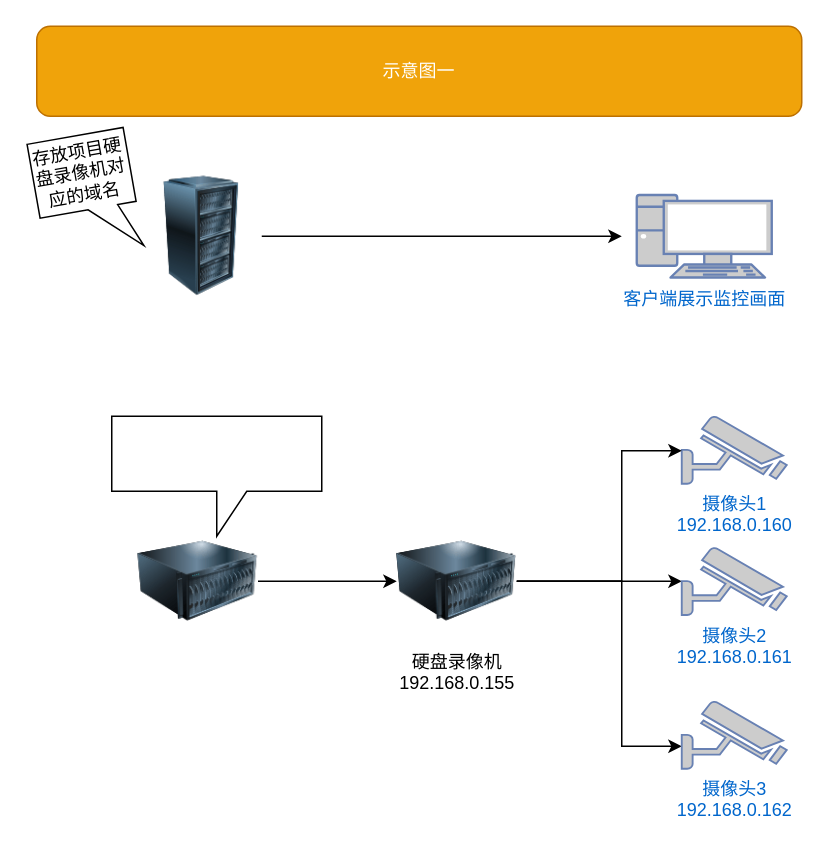
This 828x849 diagram has some shape labels left out. Here are the shapes that lost their labels. From the top down, the box of each, then its label:
(141, 176, 261, 296): 监察系统
(110, 415, 322, 536): 使用花生壳做动态域名 配置硬盘录像机局域网IP+端口
(137, 520, 257, 640): 工控机 192.168.0.3
